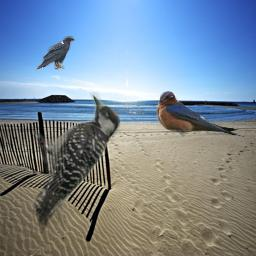Crow: (35, 36, 75, 71)
Swallow: (156, 91, 247, 138)
Woodpecker: (32, 89, 120, 231)
